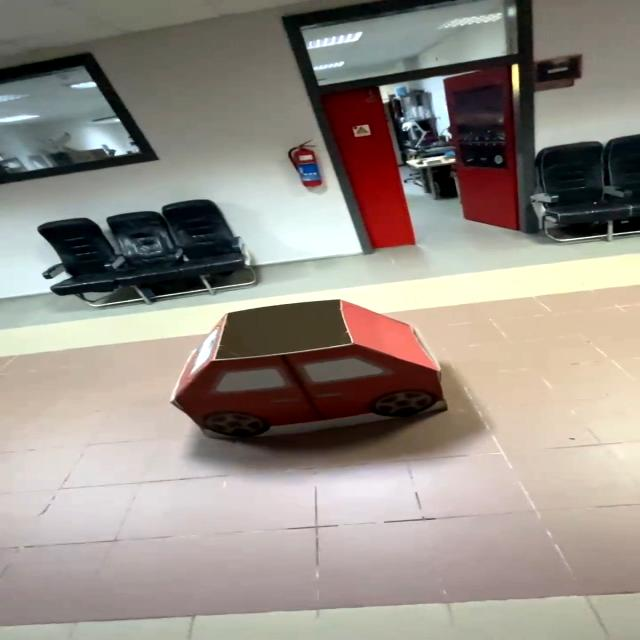red_car: (127, 282, 488, 471)
